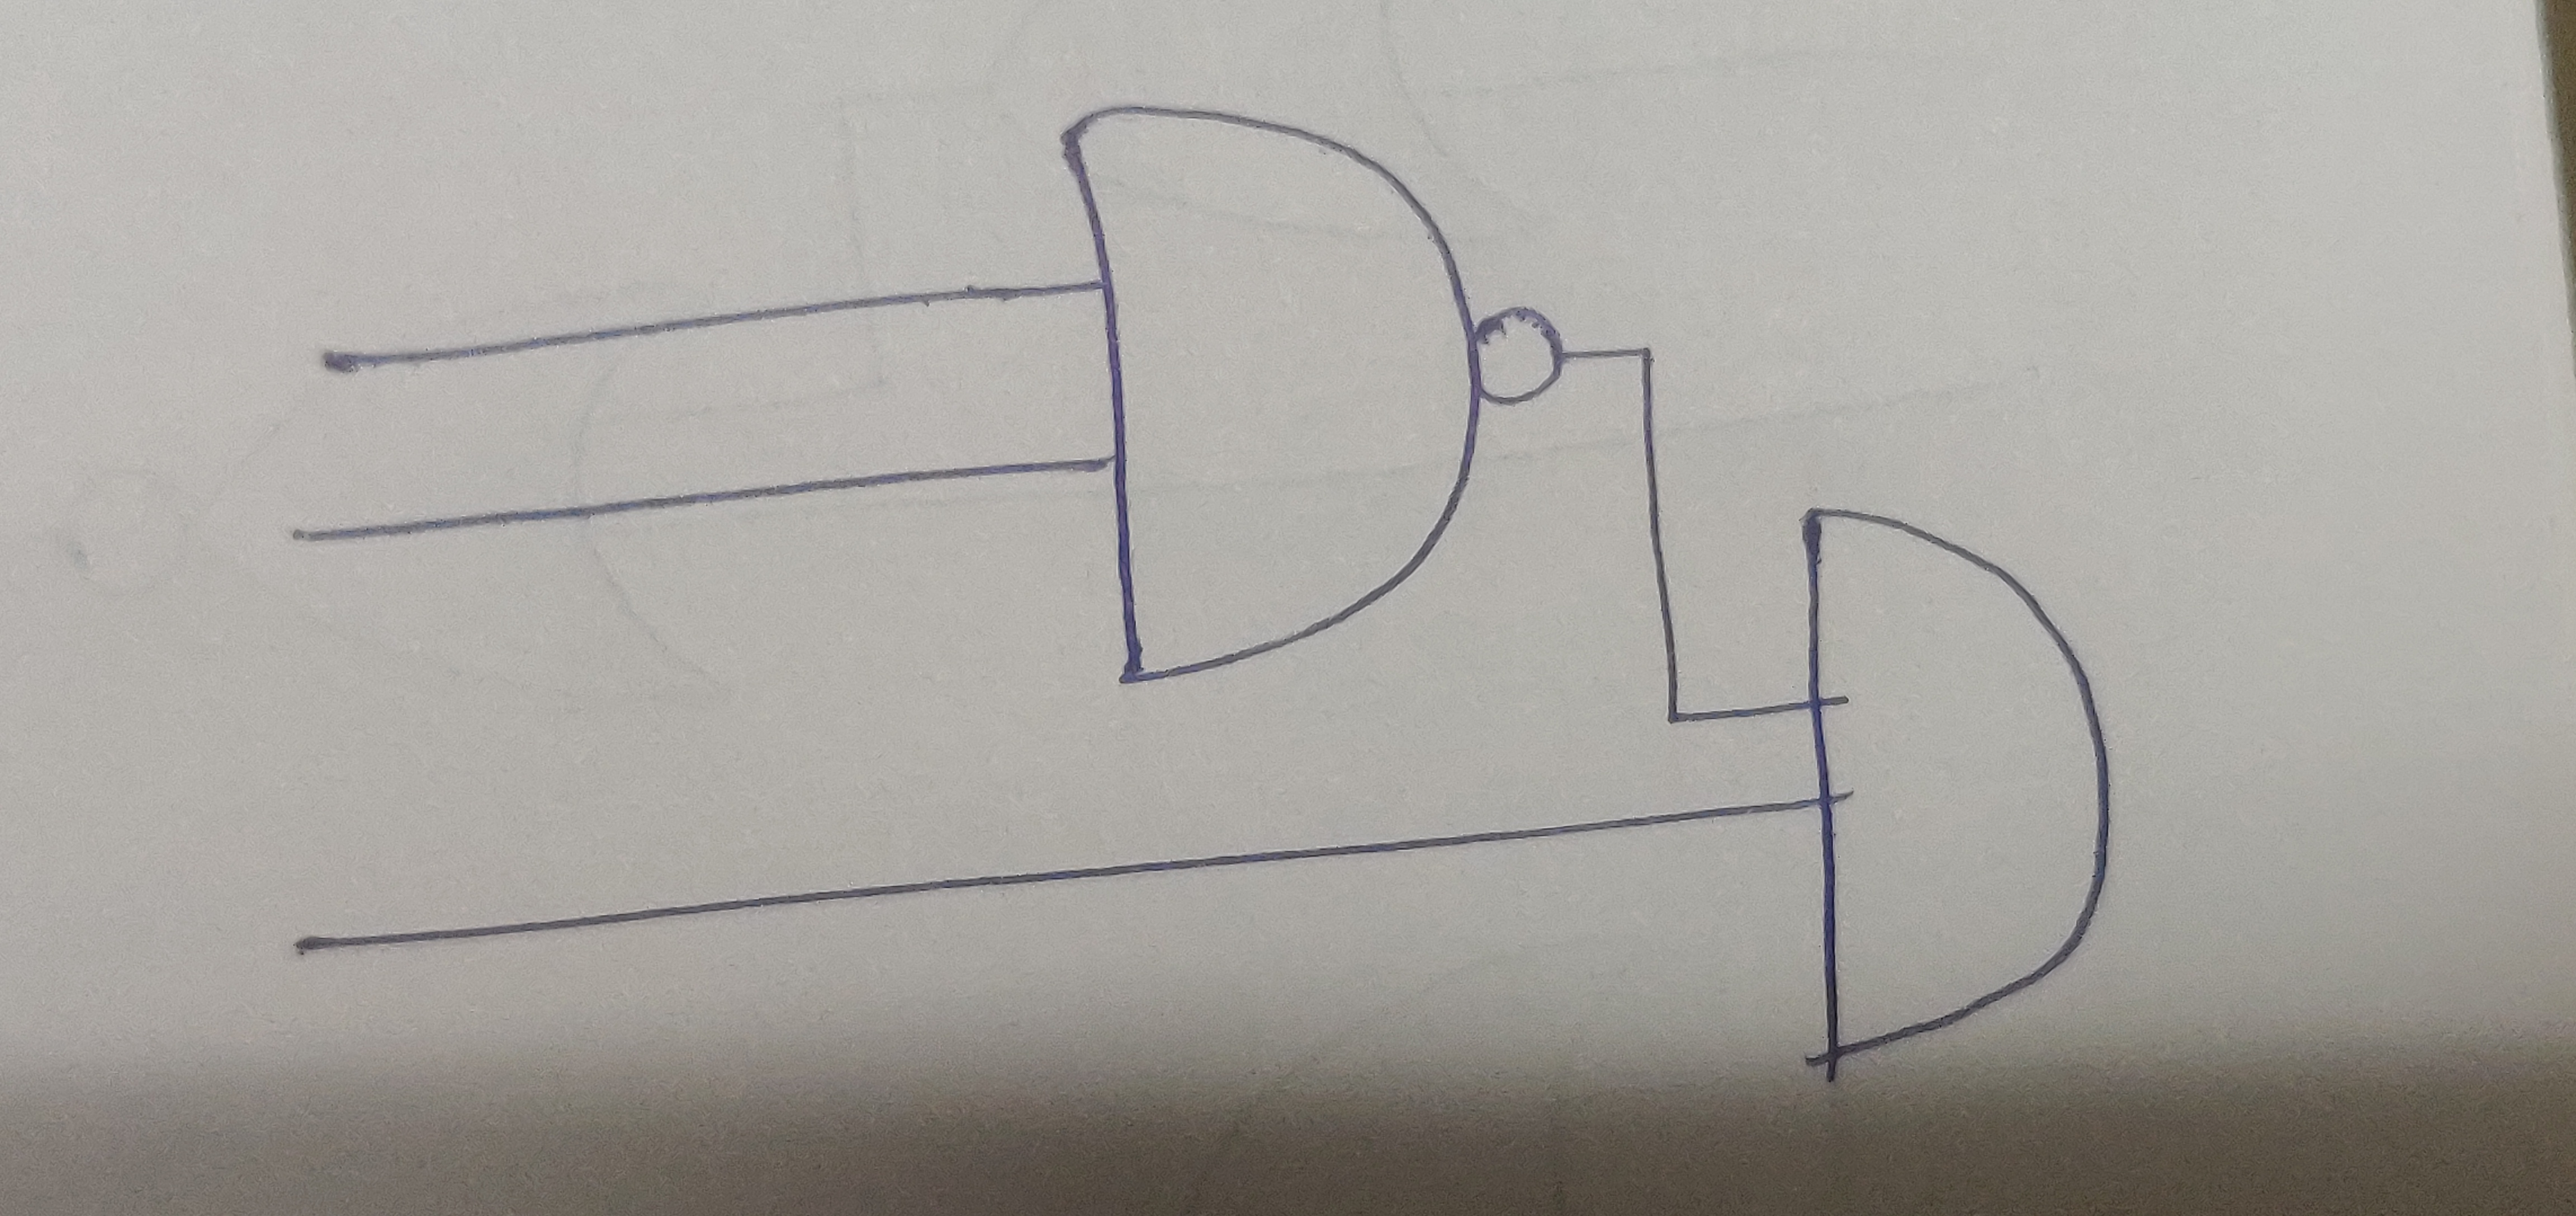and: (1055, 102, 1485, 687), (1794, 503, 2119, 1058)
not: (1469, 306, 1571, 414)
